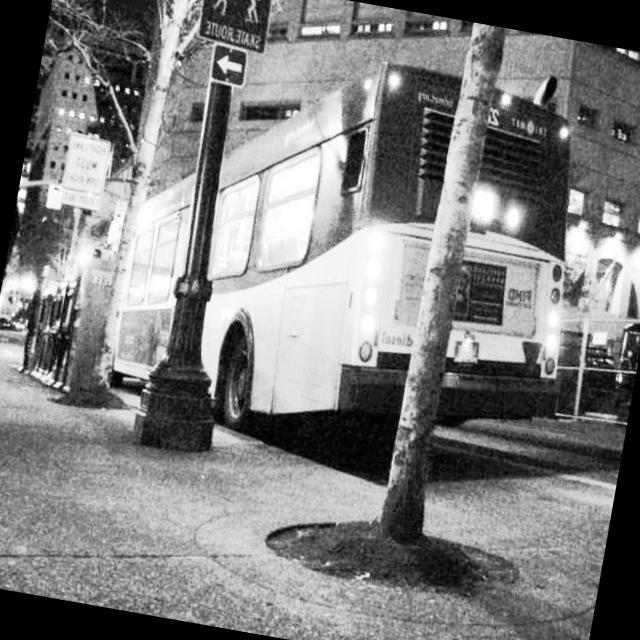Bus: (65, 9, 622, 490)
